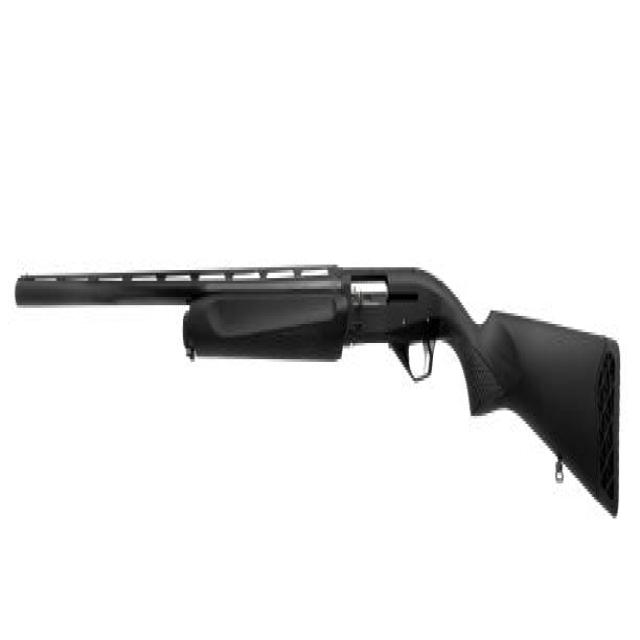rifle: (16, 252, 629, 539)
